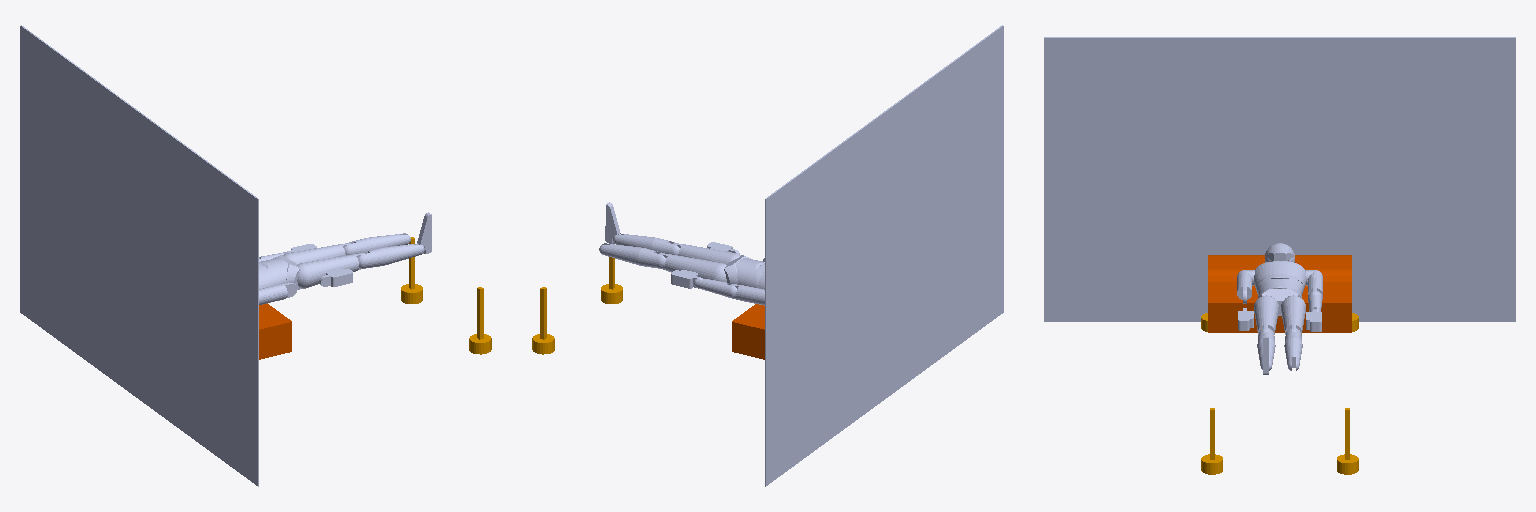
--- What the picture shows (computed from the rendered views, not written in the file) ---
3 views of the same robot in one strip: view 1: azimuth 30°, elevation 25°; view 2: azimuth 150°, elevation 25°; view 3: azimuth 270°, elevation 25° (orthographic).
Robot: bed_and_environment_lab — 33 links, 32 joints (25 revolute, 4 prismatic, 3 fixed); root link autobed/base_link; default pose: every joint at zero.
Links seen in each view (by area): view 1: autobed/wall_link, autobed/head_rest_link, autobed/base_link, autobed/quad_right_link, autobed/calf_right_link, autobed/calf_left_link, autobed/quad_left_link, autobed/arm_right_link, autobed/mid_body_link; view 2: autobed/wall_link, autobed/head_rest_link, autobed/base_link, autobed/calf_left_link, autobed/quad_left_link, autobed/calf_right_link, autobed/quad_right_link, autobed/mid_body_link; view 3: autobed/wall_link, autobed/head_rest_link, autobed/base_link, autobed/upper_body_link, autobed/quad_left_link, autobed/quad_right_link, autobed/calf_left_link.
Link boxes in pixels (x1,y1,x2,y2): autobed/wall_link: (20, 25, 258, 486); autobed/head_rest_link: (259, 303, 291, 359); autobed/base_link: (401, 237, 491, 354); autobed/quad_right_link: (297, 253, 364, 288); autobed/calf_right_link: (358, 243, 424, 268); autobed/calf_left_link: (344, 233, 410, 254); autobed/quad_left_link: (283, 243, 350, 263); autobed/arm_right_link: (259, 282, 297, 304); autobed/mid_body_link: (259, 258, 287, 286); autobed/wall_link: (765, 25, 1003, 486); autobed/head_rest_link: (732, 304, 764, 359); autobed/base_link: (532, 257, 622, 354); autobed/calf_left_link: (599, 243, 665, 268); autobed/quad_left_link: (659, 253, 726, 281); autobed/calf_right_link: (613, 233, 679, 254); autobed/quad_right_link: (673, 243, 740, 263); autobed/mid_body_link: (736, 258, 764, 287); autobed/wall_link: (1044, 37, 1515, 321); autobed/head_rest_link: (1208, 255, 1351, 332); autobed/base_link: (1201, 313, 1358, 474); autobed/upper_body_link: (1254, 261, 1305, 287); autobed/quad_left_link: (1281, 295, 1305, 334); autobed/quad_right_link: (1254, 295, 1278, 334); autobed/calf_left_link: (1284, 328, 1302, 370).
Size in the robot's own frame: 2.31 by 3 by 2 metres.
Meshes: 23 distinct files referenced, 18 mesh visuals loaded (18 binary STL); not drawn: 5 (reference not matched to a file when rendering).

robot.urdf — bed_and_environment_lab:
<?xml version="1.0"?>
<robot
  name="bed_and_environment_lab">
  <link
   name="autobed/base_link">
    <inertial>
      <origin
        xyz="1.07 3.94840580504828E-16 0.0837923121940762"
        rpy="0 0 0" />
      <mass
        value="6.1860172808288" />
      <inertia
        ixx="1.21978721906848"
        ixy="2.22044604925031E-15"
        ixz="-1.78284289885571E-15"
        iyy="7.15036992783298"
        iyz="-7.76907347784197E-16"
        izz="8.24641740321532" />
    </inertial>
    <visual>
      <origin
        xyz="0 0 0"
        rpy="0 0 0" />
      <geometry>
        <mesh
          filename="package://hrl_base_selection/urdf/bed_and_environment_henry/meshes/base_link.STL" />
      </geometry>
    </visual>
    <collision>
      <origin
        xyz="0 0 0"
        rpy="0 0 0" />
      <geometry>
        <mesh
          filename="package://hrl_base_selection/urdf/bed_and_environment_henry/meshes/base_link.STL" />
      </geometry>
    </collision>
  </link>
  <link
    name="autobed/wall_link">
    <inertial>
      <origin
        xyz="0. 0. 0."
        rpy="0 0 0" />
      <mass
        value="182.783" />
      <inertia
        ixx="14.1727036705024"
        ixy="3.00274731894519E-14"
        ixz="-0.582878793213973"
        iyy="75.8057802285568"
        iyz="9.93663151183257E-16"
        izz="86.6905817538877" />
    </inertial>
    <visual>
      <origin
        xyz="0 0 0"
        rpy="0 0 0" />
      <geometry>
        <mesh
          filename="package://hrl_base_selection/urdf/bed_and_body_v3_real_expanded/meshes/wall.stl" />
      </geometry>
      <material
        name="">
        <color
          rgba="0.792156862745098 0.819607843137255 0.933333333333333 1" />
      </material>
    </visual>
    <collision>
      <origin
        xyz="0 0 0"
        rpy="0 0 0" />
      <geometry>
        <mesh
          filename="package://hrl_base_selection/urdf/bed_and_body_v3_real_expanded/meshes/wall.stl" />
      </geometry>
    </collision>
  </link>
  <joint
    name="autobed/origin_wall_joint"
    type="fixed">
    <origin
      xyz="-0.0925 0. 0."
      rpy="0 0 0" />
    <parent
      link="autobed/base_link" />
    <child
      link="autobed/wall_link" />
    <axis
      xyz="0 0 0" />
  </joint>
  <link
   name="autobed/bed_frame_link">
    <inertial>
      <origin
        xyz="1.20574977089702 -0.00197319632794563 0.010463658046454"
        rpy="0 0 0" />
      <mass
        value="298.525793737685" />
      <inertia
        ixx="25.3079805393988"
        ixy="0.124705215046845"
        ixz="-6.18752707469867"
        iyy="161.196265779885"
        iyz="0.0978345240222597"
        izz="178.196491872743" />
    </inertial>
    <visual>
      <origin
        xyz="0 0 0"
        rpy="0 0 0" />
      <geometry>
        <mesh
          filename="package://hrl_base_selection/urdf/bed_and_environment_henry/meshes/bed_frame_link.STL" />
      </geometry>
    </visual>
    <collision>
      <origin
        xyz="0 0 0"
        rpy="0 0 0" />
      <geometry>
        <mesh
          filename="package://hrl_base_selection/urdf/bed_and_environment_henry/meshes/bed_frame_link.STL" />
      </geometry>
    </collision>
  </link>
  <joint
   name="autobed/tele_legs_joint"
    type="prismatic">
    <origin
      xyz="-0.0400000000000005 0 0.320000000000001"
      rpy="0 0 0" />
    <parent
      link="autobed/base_link" />
    <child
      link="autobed/bed_frame_link" />
    <axis
      xyz="0 0 1" />
    <limit
      lower="-1"
      upper="1"
      effort="0"
      velocity="0" />
  </joint>
  <link
   name="autobed/leg_rest_upper">
    <inertial>
      <origin
        xyz="0.184999999999998 0.10500000000001 6.79804630482359E-16"
        rpy="0 0 0" />
      <mass
        value="71.0955000000001" />
      <inertia
        ixx="5.22152012812501"
        ixy="-3.21389401302034E-17"
        ixz="-3.22023131917487E-17"
        iyy="5.77132532812501"
        iyz="-2.87322532068486E-15"
        izz="1.072357125" />
    </inertial>
    <visual>
      <origin
        xyz="0 0 0"
        rpy="0 0 0" />
      <geometry>
        <mesh
          filename="package://hrl_base_selection/urdf/bed_and_environment_henry/meshes/leg_rest_upper.STL" />
      </geometry>
    </visual>
    <collision>
      <origin
        xyz="0 0 0"
        rpy="0 0 0" />
      <geometry>
        <mesh
          filename="package://hrl_base_selection/urdf/bed_and_environment_henry/meshes/leg_rest_upper.STL" />
      </geometry>
    </collision>
  </link>
  <joint
   name="autobed/leg_rest_upper_hinge"
    type="revolute">
    <origin
      xyz="1.075 0 0"
      rpy="1.5708 -1.8438E-16 7.6543E-16" />
    <parent
      link="autobed/bed_frame_link" />
    <child
      link="autobed/leg_rest_upper" />
    <axis
      xyz="0 0 1" />
    <limit
      lower="-2"
      upper="2"
      effort="0"
      velocity="0" />
  </joint>
  <link
   name="autobed/leg_rest_lower">
    <inertial>
      <origin
        xyz="0.325000000000004 0.104999999999987 -1.38760699713425E-16"
        rpy="0 0 0" />
      <mass
        value="124.8975" />
      <inertia
        ixx="9.172940765625"
        ixy="-4.25925024767052E-17"
        ixz="-8.25969319809873E-16"
        iyy="13.111375265625"
        iyz="2.10674154540826E-16"
        izz="4.856431125" />
    </inertial>
    <visual>
      <origin
        xyz="0 0 0"
        rpy="0 0 0" />
      <geometry>
        <mesh
          filename="package://hrl_base_selection/urdf/bed_and_environment_henry/meshes/leg_rest_lower.STL" />
      </geometry>
    </visual>
    <collision>
      <origin
        xyz="0 0 0"
        rpy="0 0 0" />
      <geometry>
        <mesh
          filename="package://hrl_base_selection/urdf/bed_and_environment_henry/meshes/leg_rest_lower.STL" />
      </geometry>
    </collision>
  </link>
  <joint
   name="autobed/leg_rest_lower_hinge"
    type="revolute">
    <origin
      xyz="0.37 0 0"
      rpy="8.4655E-16 -2.4744E-16 -1.8316E-16" />
    <parent
      link="autobed/leg_rest_upper" />
    <child
      link="autobed/leg_rest_lower" />
    <axis
      xyz="0 0 -1" />
    <limit
      lower="-2"
      upper="2"
      effort="0"
      velocity="0" />
  </joint>
  <link
   name="autobed/head_rest_link">
    <inertial>
      <origin
        xyz="0.338540021639504 -0.102807900235519 0.0331726512276706"
        rpy="0 0 0" />
      <mass
        value="158.265573279578" />
      <inertia
        ixx="13.8116841883572"
        ixy="0.366851813056848"
        ixz="-0.640983438566653"
        iyy="18.5647228773414"
        iyz="-0.857921499431992"
        izz="7.19318513198363" />
    </inertial>
    <visual>
      <origin
        xyz="0 0 0"
        rpy="0 0 0" />
      <geometry>
        <mesh
          filename="package://hrl_base_selection/urdf/bed_and_body_expanded/meshes/head_rest_link.STL" />
      </geometry>
    </visual>
    <collision>
      <origin
        xyz="0 0 0"
        rpy="0 0 0" />
      <geometry>
        <mesh
          filename="package://hrl_base_selection/urdf/bed_and_body_expanded/meshes/head_rest_link.STL" />
      </geometry>
    </collision>
  </link>
  <joint
   name="autobed/head_rest_hinge"
    type="revolute">
    <origin
      xyz="0.795 0 0.21"
      rpy="1.5708 0 -3.1416" />
    <parent
      link="autobed/bed_frame_link" />
    <child
      link="autobed/head_rest_link" />
    <axis
      xyz="0 0 1" />
    <limit
      lower="-2"
      upper="2"
      effort="0"
      velocity="0" />
  </joint>
  <link
    name="autobed/neck_rotated_to_worldframe_link">
  </link>
  <joint
    name="autobed/headrest_bed_to_worldframe_joint"
    type="revolute">
    <origin
      xyz="0.25949 0.1 0"
      rpy="0. 0. 0." />
    <!--<origin-->
      <!--xyz="0.40949 0.05 0"-->
      <!--rpy="0. 0. 0." />-->
    <parent
      link="autobed/head_rest_link" />
    <child
      link="autobed/neck_rotated_to_worldframe_link" />
    <axis
      xyz="0 0 1" />
    <limit
      lower="-2"
      upper="2"
      effort="0"
      velocity="0" />
  </joint>
  <link
    name="autobed/neck_updown_worldframe_translation_link">
  </link>
  <joint
    name="autobed/bed_neck_worldframe_updown_joint"
    type="prismatic">
    <origin
      xyz="0.0 0.0 0"
      rpy="0.0 0.0 0.0" />
    <parent
      link="autobed/neck_rotated_to_worldframe_link" />
    <child
      link="autobed/neck_updown_worldframe_translation_link" />
    <axis
      xyz="-1 0 0" />
    <limit
      lower="-2"
      upper="2"
      effort="0"
      velocity="0" />
  </joint>
  <link
    name="autobed/neck_rotated_to_bedframe_link">
  </link>
  <joint
    name="autobed/bed_neck_to_bedframe_joint"
    type="revolute">
    <origin
      xyz="0.0 0.0 0"
      rpy="0. 0. 0." />
    <parent
      link="autobed/neck_updown_worldframe_translation_link" />
    <child
      link="autobed/neck_rotated_to_bedframe_link" />
    <axis
      xyz="0 0 1" />
    <limit
      lower="-2"
      upper="2"
      effort="0"
      velocity="0" />
  </joint>
  <link
    name="autobed/neck_updown_bedframe_translation_link">
  </link>
  <joint
    name="autobed/bed_neck_base_updown_bedframe_joint"
    type="prismatic">
    <origin
      xyz="0.0 0.0 0"
      rpy="0. 0. 0." />
    <parent
      link="autobed/neck_rotated_to_bedframe_link" />
    <child
      link="autobed/neck_updown_bedframe_translation_link" />
    <axis
      xyz="-1 0 0" />
    <limit
      lower="-2"
      upper="2"
      effort="0"
      velocity="0" />
  </joint>
  <link
    name="autobed/neck_base_link">
  </link>
  <joint
    name="autobed/bed_neck_base_leftright_joint"
    type="prismatic">
    <origin
      xyz="0 0 0"
      rpy="0 3.14159 0" />
    <parent
      link="autobed/neck_updown_bedframe_translation_link" />
    <child
      link="autobed/neck_base_link" />
    <axis
      xyz="0 0 -1" />
    <limit
      lower="-2"
      upper="2"
      effort="0"
      velocity="0" />
  </joint>
  <link
    name="autobed/neck_twist_link">
  </link>
  <joint
    name="autobed/neck_twist_joint"
    type="revolute">
    <origin
      xyz="0.0 0.0 0"
      rpy="0. 0. 0." />
    <parent
      link="autobed/neck_base_link" />
    <child
      link="autobed/neck_twist_link" />
    <axis
      xyz="1 0 0" />
    <limit
      lower="-2"
      upper="2"
      effort="0"
      velocity="0" />
  </joint>
  <link
    name="autobed/neck_tilt_link">
  </link>
  <joint
    name="autobed/neck_tilt_joint"
    type="revolute">
    <origin
      xyz="0.0 0.0 0"
      rpy="0. 0. 0." />
    <parent
      link="autobed/neck_twist_link" />
    <child
      link="autobed/neck_tilt_link" />
    <axis
      xyz="0 0 -1" />
    <limit
      lower="-2"
      upper="2"
      effort="0"
      velocity="0" />
  </joint>
  <link
    name="autobed/neck_link">
    <visual>
      <origin
        xyz="0 0 0"
        rpy="0 0 0" />
      <geometry>
        <mesh
          filename="package://hrl_base_selection/urdf/bed_and_environment_henry/meshes/neck_link.STL" />
      </geometry>
      <material
        name="">
        <color
          rgba="0.792156862745098 0.819607843137255 0.933333333333333 1" />
      </material>
    </visual>
    <collision>
      <origin
        xyz="0 0 0"
        rpy="0 0 0" />
      <geometry>
        <mesh
          filename="package://hrl_base_selection/urdf/bed_and_environment_henry/meshes/neck_link.STL" />
      </geometry>
    </collision>
  </link>
  <joint
    name="autobed/neck_to_neck_top_joint"
    type="fixed">
    <origin
      xyz="-0.07239 0 0"
      rpy="0 0 0" />
    <parent
      link="autobed/neck_tilt_link" />
    <child
      link="autobed/neck_link" />
  </joint>
  <link
    name="autobed/neck_top_rotated_link">
  </link>
  <joint
    name="autobed/neck_rotation_fixed_joint"
    type="fixed">
    <origin
      xyz="0 0 0"
      rpy="-1.570796 0 1.570796" />
    <parent
      link="autobed/neck_link" />
    <child
      link="autobed/neck_top_rotated_link" />
    <axis
      xyz="0 0 1" />
    <limit
      lower="-2"
      upper="2"
      effort="0"
      velocity="0" />
  </joint>
  <link
    name="autobed/head_roty_link">
  </link>
  <joint
    name="autobed/neck_head_roty_joint"
    type="revolute">
    <origin
      xyz="0.0154 0 0.07779"
      rpy="0 0 0" />
    <parent
      link="autobed/neck_top_rotated_link" />
    <child
      link="autobed/head_roty_link" />
    <axis
      xyz="0 1 0" />
    <limit
      lower="-2"
      upper="2"
      effort="0"
      velocity="0" />
  </joint>
  <link
    name="autobed/head_rotz_link">
  </link>
  <joint
    name="autobed/neck_head_rotz_joint"
    type="revolute">
    <origin
      xyz="0 0 0"
      rpy="0 0 0" />
    <parent
      link="autobed/head_roty_link" />
    <child
      link="autobed/head_rotz_link" />
    <axis
      xyz="0 0 1" />
    <limit
      lower="-2"
      upper="2"
      effort="0"
      velocity="0" />
  </joint>

  <link
    name="autobed/head_link">
    <visual>
      <origin
        xyz="0 0 0"
        rpy="0 0 0" />
      <geometry>
        <mesh
          filename="package://hrl_base_selection/urdf/bed_and_environment_henry/meshes/head_link.STL" />
      </geometry>
      <material
        name="">
        <color
          rgba="0.792156862745098 0.819607843137255 0.933333333333333 1" />
      </material>
    </visual>
    <collision>
      <origin
        xyz="0 0 0"
        rpy="0 0 0" />
      <geometry>
        <mesh
          filename="package://hrl_base_selection/urdf/bed_and_environment_henry/meshes/head_link.STL" />
      </geometry>
    </collision>
  </link>
  <joint
    name="autobed/neck_head_rotx_joint"
    type="revolute">
    <origin
      xyz="0 0 0"
      rpy="0 0 0" />
    <parent
      link="autobed/head_rotz_link" />
    <child
      link="autobed/head_link" />
    <axis
      xyz="1 0 0" />
    <limit
      lower="-2"
      upper="2"
      effort="0"
      velocity="0" />
  </joint>
  <link
    name="autobed/upper_body_link">
    <visual>
      <origin
        xyz="0 0 0"
        rpy="0 0 0" />
      <geometry>
        <mesh
          filename="package://hrl_base_selection/urdf/bed_and_environment_henry/meshes/upper_body_link.STL" />
      </geometry>
      <material
        name="">
        <color
          rgba="0.792156862745098 0.819607843137255 0.933333333333333 1" />
      </material>
    </visual>
    <collision>
      <origin
        xyz="0 0 0"
        rpy="0 0 0" />
      <geometry>
        <mesh
          filename="package://hrl_base_selection/urdf/bed_and_environment_henry/meshes/upper_body_link.STL" />
      </geometry>
    </collision>
  </link>
  <joint
    name="autobed/neck_body_joint"
    type="revolute">
    <origin
      xyz="0.00 0 0"
      rpy="0 0 0" />
    <parent
      link="autobed/neck_base_link" />
    <child
      link="autobed/upper_body_link" />
    <axis
      xyz="0 0 -1" />
    <limit
      lower="-2"
      upper="2"
      effort="0"
      velocity="0" />
  </joint>
  <link
    name="autobed/mid_body_link">
    <visual>
      <origin
        xyz="0 0 0"
        rpy="0 0 0" />
      <geometry>
        <mesh
          filename="package://hrl_base_selection/urdf/bed_and_environment_henry/meshes/mid_body_link.STL" />
      </geometry>
      <material
        name="">
        <color
          rgba="0.792156862745098 0.819607843137255 0.933333333333333 1" />
      </material>
    </visual>
    <collision>
      <origin
        xyz="0 0 0"
        rpy="0 0 0" />
      <geometry>
        <mesh
          filename="package://hrl_base_selection/urdf/bed_and_environment_henry/meshes/mid_body_link.STL" />
      </geometry>
    </collision>
  </link>
  <joint
    name="autobed/upper_mid_body_joint"
    type="revolute">
    <origin
      xyz="0.35052 0 0"
      rpy="0 0 0" />
    <parent
      link="autobed/upper_body_link" />
    <child
      link="autobed/mid_body_link" />
    <axis
      xyz="0 0 1" />
    <limit
      lower="-2"
      upper="2"
      effort="0"
      velocity="0" />
  </joint>
  <link
    name="autobed/lower_body_link">
    <visual>
      <origin
        xyz="0 0 0"
        rpy="0 0 0" />
      <geometry>
        <mesh
          filename="package://hrl_base_selection/urdf/bed_and_environment_henry/meshes/lower_body_link.STL" />
      </geometry>
      <material
        name="">
        <color
          rgba="0.792156862745098 0.819607843137255 0.933333333333333 1" />
      </material>
    </visual>
    <collision>
      <origin
        xyz="0 0 0"
        rpy="0 0 0" />
      <geometry>
        <mesh
          filename="package://hrl_base_selection/urdf/bed_and_environment_henry/meshes/lower_body_link.STL" />
      </geometry>
    </collision>
  </link>
  <joint
    name="autobed/mid_lower_body_joint"
    type="revolute">
    <origin
      xyz="0.15113 0 0"
      rpy="0 0 0" />
    <parent
      link="autobed/mid_body_link" />
    <child
      link="autobed/lower_body_link" />
    <axis
      xyz="0 0 1" />
    <limit
      lower="-2"
      upper="2"
      effort="0"
      velocity="0" />
  </joint>
  <link
    name="autobed/quad_left_link">
    <visual>
      <origin
        xyz="0 0 0"
        rpy="0 0 0" />
      <geometry>
        <mesh
          filename="package://hrl_base_selection/urdf/bed_and_environment_henry/meshes/quad_left_link.STL" />
      </geometry>
      <material
        name="">
        <color
          rgba="0.792156862745098 0.819607843137255 0.933333333333333 1" />
      </material>
    </visual>
    <collision>
      <origin
        xyz="0 0 0"
        rpy="0 0 0" />
      <geometry>
        <mesh
          filename="package://hrl_base_selection/urdf/bed_and_environment_henry/meshes/quad_left_link.STL" />
      </geometry>
    </collision>
  </link>
  <joint
    name="autobed/body_quad_left_joint"
    type="revolute">
    <origin
      xyz="0.05207 0 -0.08636"
      rpy="0 0 -.25" />
    <parent
      link="autobed/lower_body_link" />
    <child
      link="autobed/quad_left_link" />
    <axis
      xyz="0 0 1" />
    <limit
      lower="-3."
      upper="3."
      effort="0"
      velocity="0" />
  </joint>
  <link
    name="autobed/calf_left_link">
    <visual>
      <origin
        xyz="0 0 0"
        rpy="0 0 0" />
      <geometry>
        <mesh
          filename="package://hrl_base_selection/urdf/bed_and_environment_henry/meshes/calf_left_link.STL" />
      </geometry>
      <material
        name="">
        <color
          rgba="0.792156862745098 0.819607843137255 0.933333333333333 1" />
      </material>
    </visual>
    <collision>
      <origin
        xyz="0 0 0"
        rpy="0 0 0" />
      <geometry>
        <mesh
          filename="package://hrl_base_selection/urdf/bed_and_environment_henry/meshes/calf_left_link.STL" />
      </geometry>
    </collision>
  </link>
  <joint
    name="autobed/quad_calf_left_joint"
    type="revolute">
    <origin
      xyz="0.41218 0.11044 0"
      rpy="3.14159 0 3.43" />
    <parent
      link="autobed/quad_left_link" />
    <child
      link="autobed/calf_left_link" />
    <axis
      xyz="0 0 1" />
    <limit
      lower="-3."
      upper="3."
      effort="0"
      velocity="0" />
  </joint>
  <link
    name="autobed/foot_left_link">
    <visual>
      <origin
        xyz="0 0 0"
        rpy="0 0 0" />
      <geometry>
        <mesh
          filename="package://hrl_base_selection/urdf/bed_and_environment_henry/meshes/foot_left_link.STL" />
      </geometry>
      <material
        name="">
        <color
          rgba="0.792156862745098 0.819607843137255 0.933333333333333 1" />
      </material>
    </visual>
    <collision>
      <origin
        xyz="0 0 0"
        rpy="0 0 0" />
      <geometry>
        <mesh
          filename="package://hrl_base_selection/urdf/bed_and_environment_henry/meshes/foot_left_link.STL" />
      </geometry>
    </collision>
  </link>
  <joint
    name="autobed/calf_foot_left_joint"
    type="revolute">
    <origin
      xyz="-0.41279 -0.03188 0"
      rpy="0 0 0.09" />
    <parent
      link="autobed/calf_left_link" />
    <child
      link="autobed/foot_left_link" />
    <axis
      xyz="0 0 1" />
    <limit
      lower="-3."
      upper="3."
      effort="0"
      velocity="0" />
  </joint>
  <link
    name="autobed/quad_right_link">
    <visual>
      <origin
        xyz="0 0 0"
        rpy="0 0 0" />
      <geometry>
        <mesh
          filename="package://hrl_base_selection/urdf/bed_and_environment_henry/meshes/quad_right_link.STL" />
      </geometry>
      <material
        name="">
        <color
          rgba="0.792156862745098 0.819607843137255 0.933333333333333 1" />
      </material>
    </visual>
    <collision>
      <origin
        xyz="0 0 0"
        rpy="0 0 0" />
      <geometry>
        <mesh
          filename="package://hrl_base_selection/urdf/bed_and_environment_henry/meshes/quad_right_link.STL" />
      </geometry>
    </collision>
  </link>
  <joint
    name="autobed/body_quad_right_joint"
    type="revolute">
    <origin
      xyz="0.05207 0 0.08636"
      rpy="0 0 -.25" />
    <parent
      link="autobed/lower_body_link" />
    <child
      link="autobed/quad_right_link" />
    <axis
      xyz="0 0 1" />
    <limit
      lower="-3"
      upper="3"
      effort="0"
      velocity="0" />
  </joint>
  <link
    name="autobed/calf_right_link">
    <visual>
      <origin
        xyz="0 0 0"
        rpy="0 0 0" />
      <geometry>
        <mesh
          filename="package://hrl_base_selection/urdf/bed_and_environment_henry/meshes/calf_right_link.STL" />
      </geometry>
      <material
        name="">
        <color
          rgba="0.792156862745098 0.819607843137255 0.933333333333333 1" />
      </material>
    </visual>
    <collision>
      <origin
        xyz="0 0 0"
        rpy="0 0 0" />
      <geometry>
        <mesh
          filename="package://hrl_base_selection/urdf/bed_and_environment_henry/meshes/calf_right_link.STL" />
      </geometry>
    </collision>
  </link>
  <joint
    name="autobed/quad_calf_right_joint"
    type="revolute">
    <origin
      xyz="0.41218 0.11044 0"
      rpy="3.14159 0 3.43" />
    <parent
      link="autobed/quad_right_link" />
    <child
      link="autobed/calf_right_link" />
    <axis
      xyz="0 0 1" />
    <limit
      lower="-3"
      upper="3"
      effort="0"
      velocity="0" />
  </joint>
  <link
    name="autobed/foot_right_link">
    <visual>
      <origin
        xyz="0 0 0"
        rpy="0 0 0" />
      <geometry>
        <mesh
          filename="package://hrl_base_selection/urdf/bed_and_environment_henry/meshes/foot_right_link.STL" />
      </geometry>
      <material
        name="">
        <color
          rgba="0.792156862745098 0.819607843137255 0.933333333333333 1" />
      </material>
    </visual>
    <collision>
      <origin
        xyz="0 0 0"
        rpy="0 0 0" />
      <geometry>
        <mesh
          filename="package://hrl_base_selection/urdf/bed_and_environment_henry/meshes/foot_right_link.STL" />
      </geometry>
    </collision>
  </link>
  <joint
    name="autobed/calf_foot_right_joint"
    type="revolute">
    <origin
      xyz="-0.41279 -0.03188 0"
      rpy="0 0 0.09" />
    <parent
      link="autobed/calf_right_link" />
    <child
      link="autobed/foot_right_link" />
    <axis
      xyz="0 0 1" />
    <limit
      lower="-3"
      upper="3"
      effort="0"
      velocity="0" />
  </joint>
  <link
    name="autobed/arm_left_link">
    <visual>
      <origin
        xyz="0 0 0"
        rpy="0 0 0" />
      <geometry>
        <mesh
          filename="package://hrl_base_selection/urdf/bed_and_environment_henry/meshes/arm_left_link.STL" />
      </geometry>
      <material
        name="">
        <color
          rgba="0.792156862745098 0.819607843137255 0.933333333333333 1" />
      </material>
    </visual>
    <collision>
      <origin
        xyz="0 0 0"
        rpy="0 0 0" />
      <geometry>
        <mesh
          filename="package://hrl_base_selection/urdf/bed_and_environment_henry/meshes/arm_left_link.STL" />
      </geometry>
    </collision>
  </link>
  <joint
    name="autobed/body_arm_left_joint"
    type="revolute">
    <origin
      xyz="0.09652 0 -0.17526"
      rpy="0 0 0" />
    <parent
      link="autobed/upper_body_link" />
    <child
      link="autobed/arm_left_link" />
    <axis
      xyz="0 0 1" />
    <limit
      lower="-3"
      upper="3"
      effort="0"
      velocity="0" />
  </joint>
  <link
    name="autobed/forearm_left_link">
    <visual>
      <origin
        xyz="0 0 0"
        rpy="0 0 0" />
      <geometry>
        <mesh
          filename="package://hrl_base_selection/urdf/bed_and_environment_henry/meshes/forearm_left_link.STL" />
      </geometry>
      <material
        name="">
        <color
          rgba="0.792156862745098 0.819607843137255 0.933333333333333 1" />
      </material>
    </visual>
    <collision>
      <origin
        xyz="0 0 0"
        rpy="0 0 0" />
      <geometry>
        <mesh
          filename="package://hrl_base_selection/urdf/bed_and_environment_henry/meshes/forearm_left_link.STL" />
      </geometry>
    </collision>
  </link>
  <joint
    name="autobed/arm_forearm_left_joint"
    type="revolute">
    <origin
      xyz="0.28174 -0.0106 -0.04953"
      rpy="0 0 0" />
    <parent
      link="autobed/arm_left_link" />
    <child
      link="autobed/forearm_left_link" />
    <axis
      xyz="0 0 1" />
    <limit
      lower="-3"
      upper="3"
      effort="0"
      velocity="0" />
  </joint>
  <link
    name="autobed/hand_left_link">
    <visual>
      <origin
        xyz="0 0 0"
        rpy="0 0 0" />
      <geometry>
        <mesh
          filename="package://hrl_base_selection/urdf/bed_and_environment_henry/meshes/hand_left_link.STL" />
      </geometry>
      <material
        name="">
        <color
          rgba="0.792156862745098 0.819607843137255 0.933333333333333 1" />
      </material>
    </visual>
    <collision>
      <origin
        xyz="0 0 0"
        rpy="0 0 0" />
      <geometry>
        <mesh
          filename="package://hrl_base_selection/urdf/bed_and_environment_henry/meshes/hand_left_link.STL" />
      </geometry>
    </collision>
  </link>
  <joint
    name="autobed/forearm_hand_left_joint"
    type="revolute">
    <origin
      xyz="0.25146 0 0"
      rpy="0 0 0" />
    <parent
      link="autobed/forearm_left_link" />
    <child
      link="autobed/hand_left_link" />
    <axis
      xyz="0 0 1" />
    <limit
      lower="-3"
      upper="3"
      effort="0"
      velocity="0" />
  </joint>
  <link
    name="autobed/arm_right_link">
    <visual>
      <origin
        xyz="0 0 0"
        rpy="0 0 0" />
      <geometry>
        <mesh
          filename="package://hrl_base_selection/urdf/bed_and_environment_henry/meshes/arm_right_link.STL" />
      </geometry>
      <material
        name="">
        <color
          rgba="0.792156862745098 0.819607843137255 0.933333333333333 1" />
      </material>
    </visual>
    <collision>
      <origin
        xyz="0 0 0"
        rpy="0 0 0" />
      <geometry>
        <mesh
          filename="package://hrl_base_selection/urdf/bed_and_environment_henry/meshes/arm_right_link.STL" />
      </geometry>
    </collision>
  </link>
  <joint
    name="autobed/body_arm_right_joint"
    type="revolute">
    <origin
      xyz="0.09652 0 0.17526"
      rpy="0 0 0" />
    <parent
      link="autobed/upper_body_link" />
    <child
      link="autobed/arm_right_link" />
    <axis
      xyz="0 0 1" />
    <limit
      lower="-3"
      upper="3"
      effort="0"
      velocity="0" />
  </joint>
  <link
    name="autobed/forearm_right_link">
    <visual>
      <origin
        xyz="0 0 0"
        rpy="0 0 0" />
      <geometry>
        <mesh
          filename="package://hrl_base_selection/urdf/bed_and_environment_henry/meshes/forearm_right_link.STL" />
      </geometry>
      <material
        name="">
        <color
          rgba="0.792156862745098 0.819607843137255 0.933333333333333 1" />
      </material>
    </visual>
    <collision>
      <origin
        xyz="0 0 0"
        rpy="0 0 0" />
      <geometry>
        <mesh
          filename="package://hrl_base_selection/urdf/bed_and_environment_henry/meshes/forearm_right_link.STL" />
      </geometry>
    </collision>
  </link>
  <joint
    name="autobed/arm_forearm_right_joint"
    type="revolute">
    <origin
      xyz="0.28194 0 0.04953"
      rpy="0 0 0" />
    <parent
      link="autobed/arm_right_link" />
    <child
      link="autobed/forearm_right_link" />
    <axis
      xyz="0 0 1" />
    <limit
      lower="-3"
      upper="3"
      effort="0"
      velocity="0" />
  </joint>
  <link
    name="autobed/hand_right_link">
    <visual>
      <origin
        xyz="0 0 0"
        rpy="0 0 0" />
      <geometry>
        <mesh
          filename="package://hrl_base_selection/urdf/bed_and_environment_henry/meshes/hand_right_link.STL" />
      </geometry>
      <material
        name="">
        <color
          rgba="0.792156862745098 0.819607843137255 0.933333333333333 1" />
      </material>
    </visual>
    <collision>
      <origin
        xyz="0 0 0"
        rpy="0 0 0" />
      <geometry>
        <mesh
          filename="package://hrl_base_selection/urdf/bed_and_environment_henry/meshes/hand_right_link.STL" />
      </geometry>
    </collision>
  </link>
  <joint
    name="autobed/forearm_hand_right_joint"
    type="revolute">
    <origin
      xyz="0.25146 0 0"
      rpy="0 0 0" />
    <parent
      link="autobed/forearm_right_link" />
    <child
      link="autobed/hand_right_link" />
    <axis
      xyz="0 0 1" />
    <limit
      lower="-3"
      upper="3"
      effort="0"
      velocity="0" />
  </joint>

</robot>
